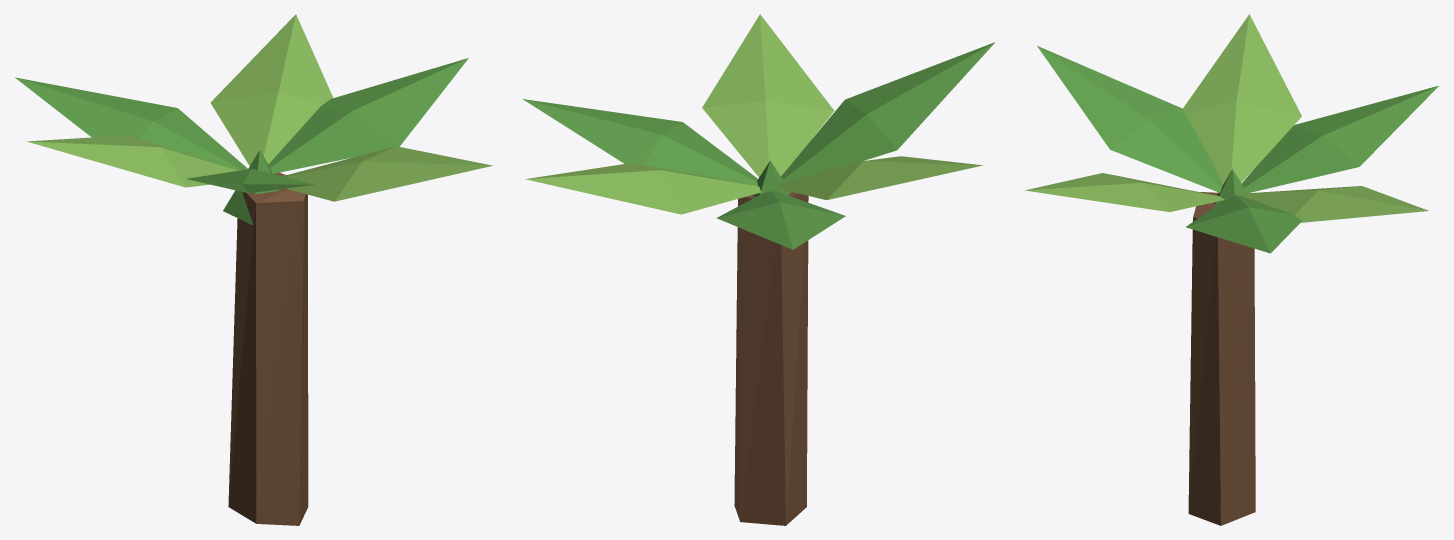
File: world_tree_cycad_s.obj
The picture shows the model from 3 angles, left to right: view 1: azimuth 30°, elevation 25°; view 2: azimuth 150°, elevation 25°; view 3: azimuth 270°, elevation 25°; orthographic projection. The views are drawn at different scales.
Visible parts, largest first — view 1: world_tree_cycad_s; view 2: world_tree_cycad_s; view 3: world_tree_cycad_s.
Boxes of the visible parts, box(x1,y1,x2,y2) form: world_tree_cycad_s: box(15, 14, 492, 525); world_tree_cycad_s: box(522, 14, 995, 525); world_tree_cycad_s: box(1025, 14, 1438, 525).
Bounding box in the file's own units: 5.72 × 5.24 × 4.86.
